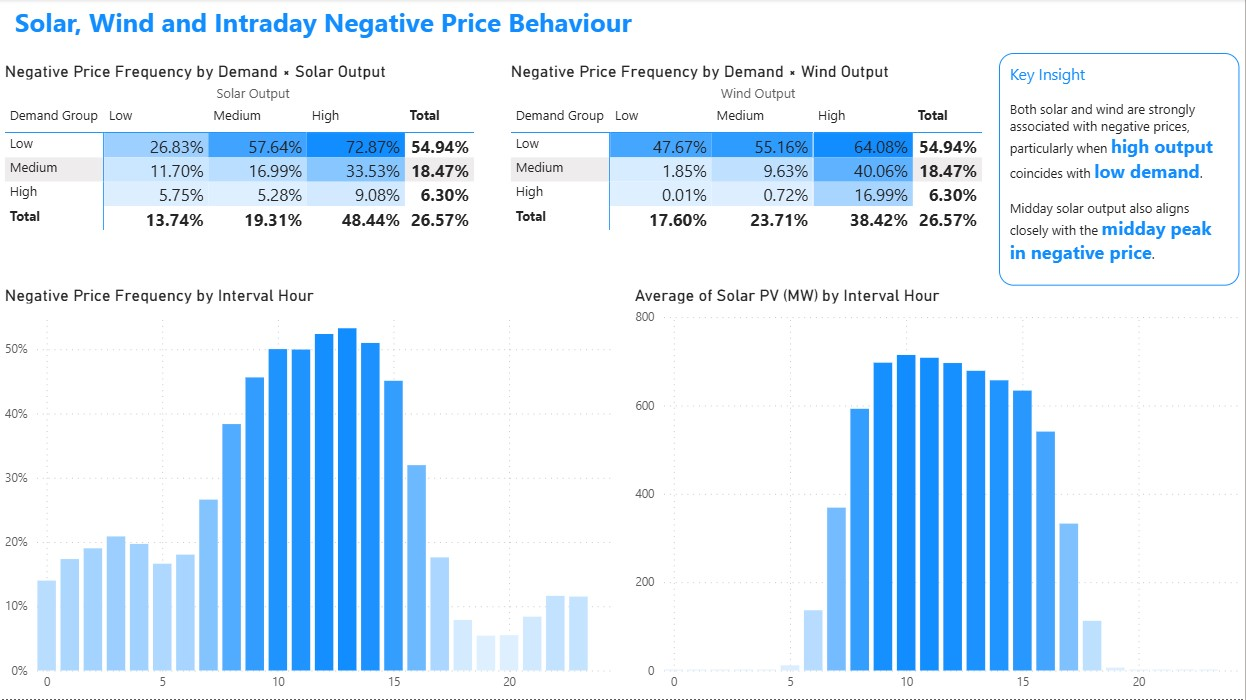

The page's visual inventory and layout, read from the dashboard file:
{"tool":"powerbi","page":{"name":"Renewable & Intraday Behaviour","canvas":[1280,720],"ordinal":1},"visuals":[{"type":"textbox","box":[10.4,0,900.5,52.2],"z":0},{"type":"columnChart","fields":{"Category":["final_market_dataset.Interval Hour"],"Y":["final_market_dataset.Negative Price Frequency"]},"box":[0,294.1,632.9,426],"z":1000},{"type":"pivotTable","title":"Negative Price Frequency by Demand × Solar Output","fields":{"Rows":["final_market_dataset.Demand Group"],"Values":["final_market_dataset.Negative Price Frequency"],"Columns":["final_market_dataset.Solar Group"]},"box":[0,63.6,520,192.6],"z":2000},{"type":"pivotTable","title":"Negative Price Frequency by Demand × Wind Output","fields":{"Rows":["final_market_dataset.Demand Group"],"Values":["final_market_dataset.Negative Price Frequency"],"Columns":["final_market_dataset.Wind Group"]},"box":[520,63.6,518.1,192.6],"z":3000},{"type":"columnChart","title":"Average of Solar PV (MW) by Interval Hour","fields":{"Category":["final_market_dataset.Interval Hour"],"Y":["final_market_dataset.Average Solar PV"]},"box":[647.1,294.1,632.9,426],"z":4000},{"type":"textbox","box":[1026.7,55,246.7,239.1],"z":5000}]}

Visuals, with their boxes in screenshot pixels (x1, y1, x2, y2), scaled from the page's 1280x720 canvas onto the 1246x700 screenshot:
textbox: select_region(10, 0, 887, 51)
columnChart - final_market_dataset.Interval Hour x final_market_dataset.Negative Price Frequency: select_region(0, 286, 616, 699)
"Negative Price Frequency by Demand × Solar Output" pivotTable: select_region(0, 62, 506, 249)
"Negative Price Frequency by Demand × Wind Output" pivotTable: select_region(506, 62, 1011, 249)
"Average of Solar PV (MW) by Interval Hour" columnChart: select_region(630, 286, 1245, 699)
textbox: select_region(999, 53, 1240, 286)
